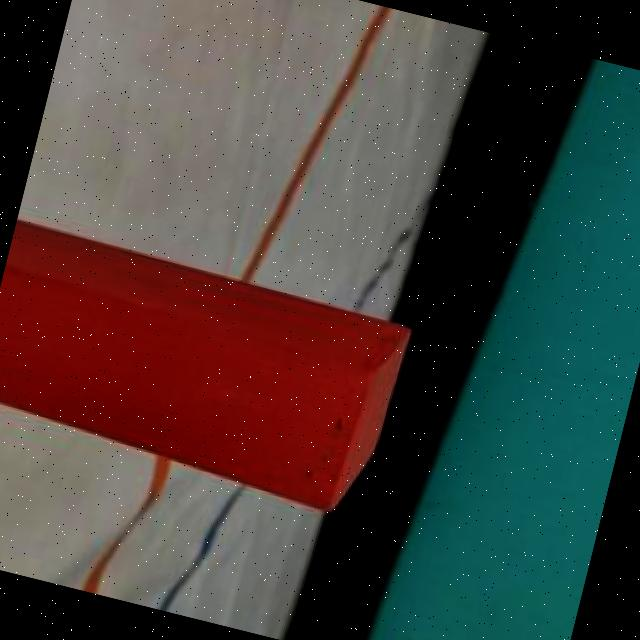redbox: (0, 219, 413, 518)
